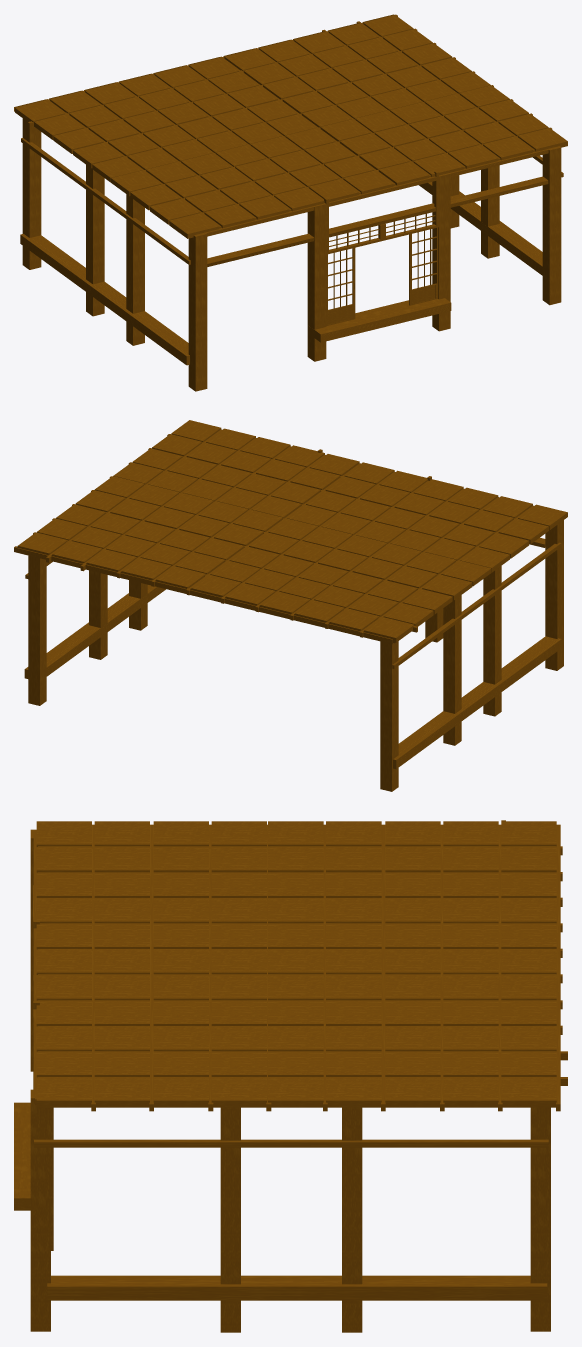
File: result_wood.obj
The picture shows the model from 3 angles, top to bottom: view 1: azimuth 30°, elevation 25°; view 2: azimuth 150°, elevation 25°; view 3: azimuth 270°, elevation 25°; orthographic projection. The views are drawn at different scales.
Parts seen in each view (by area): view 1: 立方体.368; view 2: 立方体.368; view 3: 立方体.368.
Boxes of the visible parts, x1,y1,x2,y2 form: 立方体.368: (14, 14, 567, 391); 立方体.368: (14, 420, 567, 791); 立方体.368: (14, 820, 567, 1332).
Bounding box in the file's own units: 543 × 214 × 448.
1 material, 1 textured.
